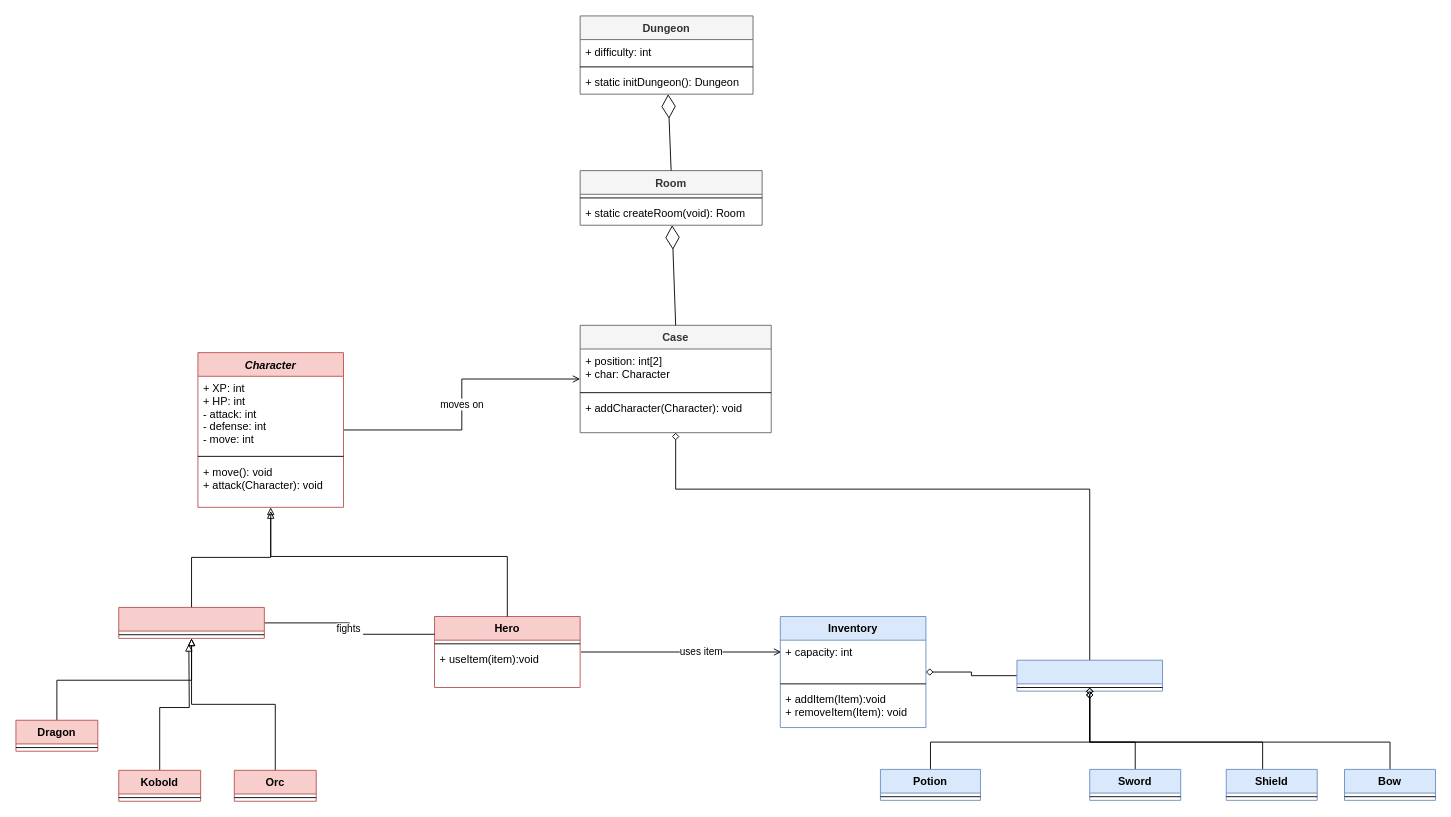
This 1451x817 diagram has some shape labels left out. The shapes that lost their labels are listed below. From the top down, each one's centre as x and y in pixels, then its label:
pixel 191 622: Monster
pixel 1089 675: Item
